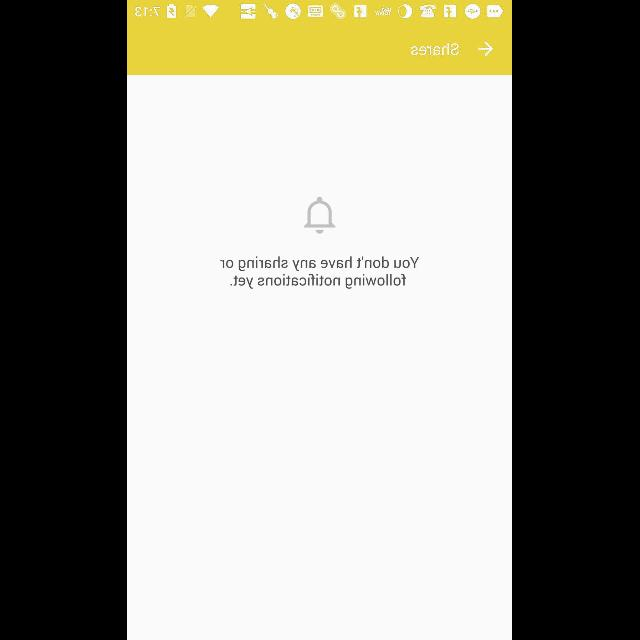icon: (304, 196, 336, 234), (478, 41, 494, 57)
text: (220, 256, 420, 290), (412, 42, 460, 56)
toolbar: (128, 23, 512, 75)
uppertaskbar: (128, 1, 512, 23)
